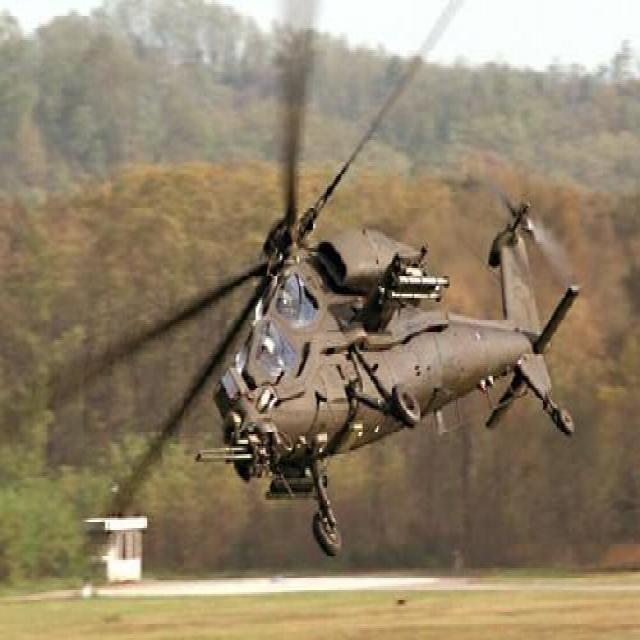MIL_HELO: (27, 16, 587, 567)
